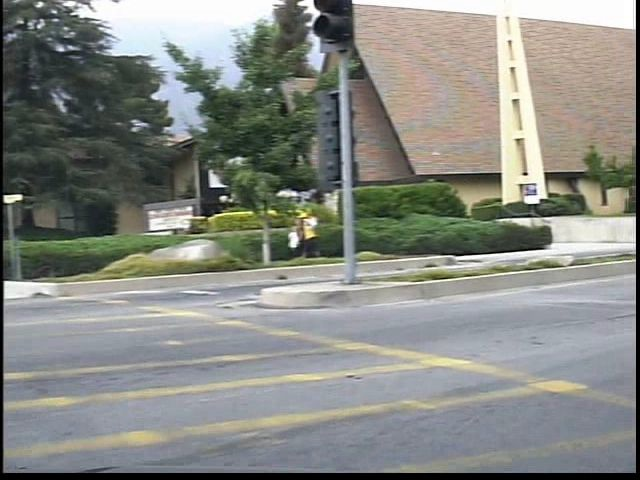person: (306, 207, 338, 264)
